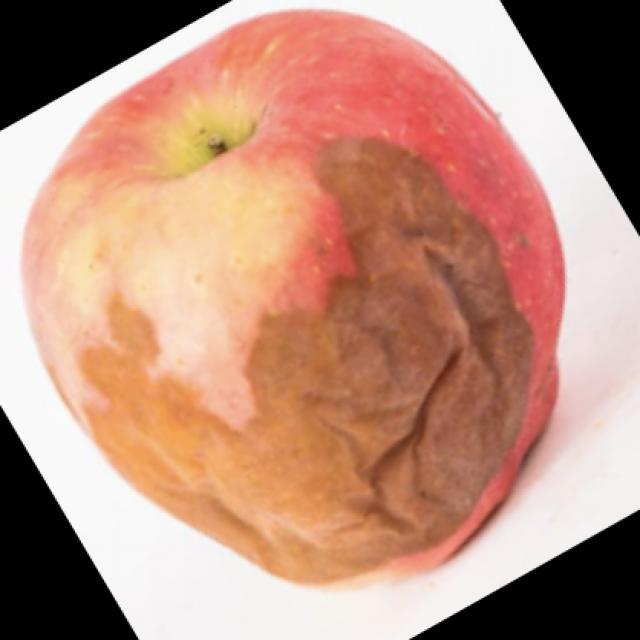Rotten: (37, 15, 555, 568)
